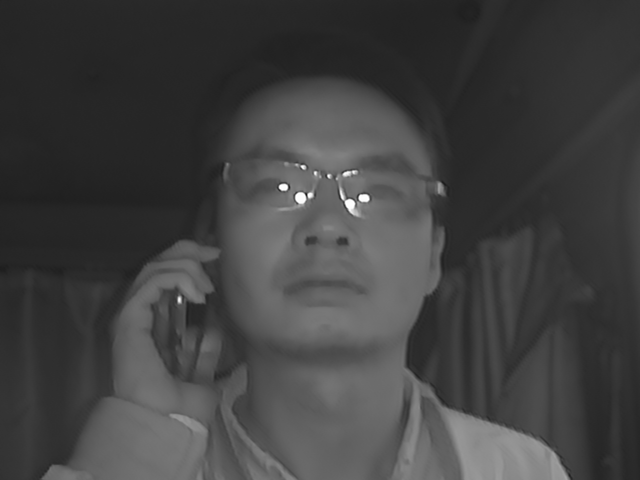hand: (106, 235, 227, 417)
